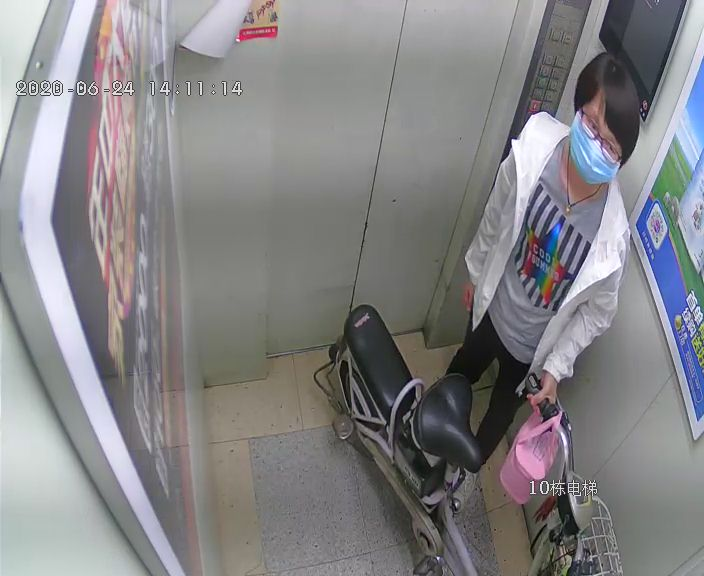Electric-bicycle: (326, 302, 620, 571)
